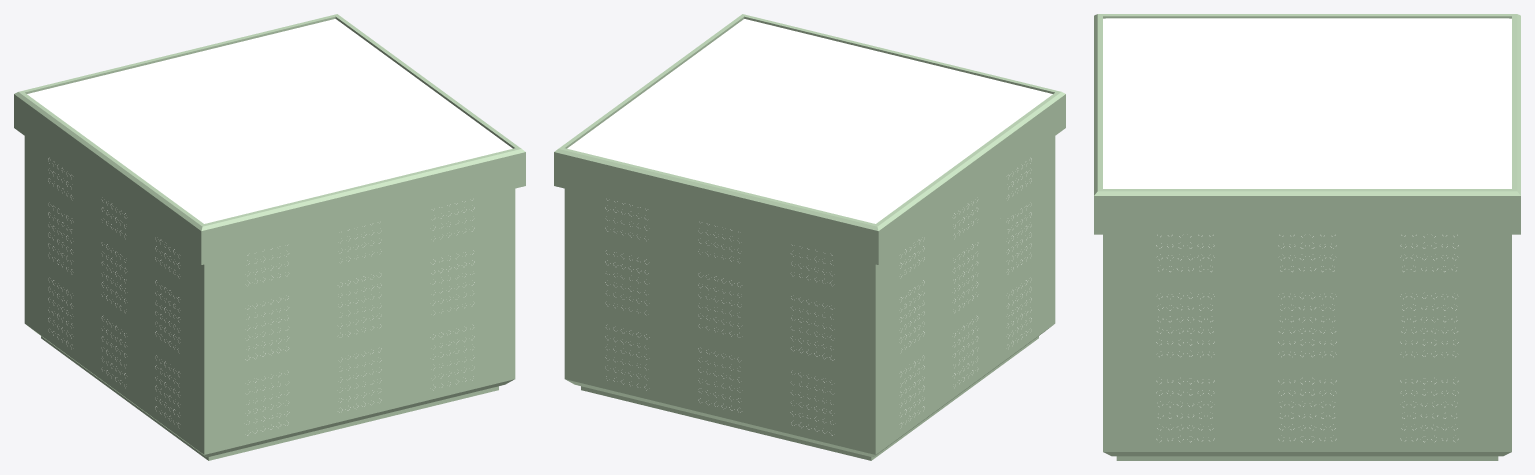
File: Floor_Cube.fbx
3 views of the same model, side by side, from view 1: azimuth 30°, elevation 25°; view 2: azimuth 150°, elevation 25°; view 3: azimuth 270°, elevation 25° (orthographic). The views are drawn at different scales.
Parts seen in each view (by area): view 1: SM_Floor_Cube, SM_Floor_Cube_Glass; view 2: SM_Floor_Cube, SM_Floor_Cube_Glass; view 3: SM_Floor_Cube, SM_Floor_Cube_Glass.
Part boxes in pixels (x1,y1,x2,y2): SM_Floor_Cube: (14,14,525,460); SM_Floor_Cube_Glass: (27,19,512,223); SM_Floor_Cube: (554,14,1065,460); SM_Floor_Cube_Glass: (567,19,1052,223); SM_Floor_Cube: (1094,14,1520,460); SM_Floor_Cube_Glass: (1103,18,1511,188).
Size of the model in its own units: 100 by 71.81 by 100.
